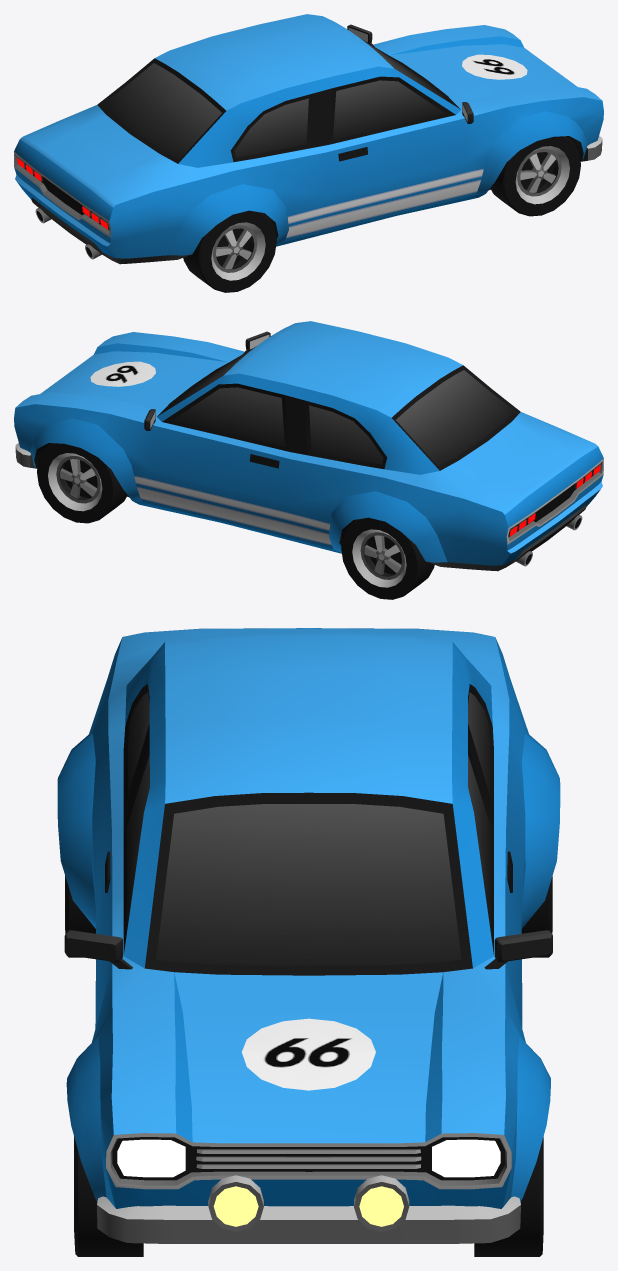
Rendered from RaceCar_107.glb.
The picture shows the model from 3 angles, top to bottom: view 1: azimuth 30°, elevation 25°; view 2: azimuth 150°, elevation 25°; view 3: azimuth 270°, elevation 25°; orthographic projection. The views are drawn at different scales.
Visible parts, largest first — view 1: RaceCar_107, wheel_3_RaceCar_107_Wheel_2R, wheel_1_RaceCar_107_Wheel_1R; view 2: RaceCar_107, wheel_2_RaceCar_107_Wheel_2L, wheel_0_RaceCar_107_Wheel_1L; view 3: RaceCar_107, wheel_0_RaceCar_107_Wheel_1L, wheel_1_RaceCar_107_Wheel_1R.
Part boxes in pixels (x1,y1,x2,y2): RaceCar_107: (14,14,603,264); wheel_3_RaceCar_107_Wheel_2R: (183,210,276,292); wheel_1_RaceCar_107_Wheel_1R: (490,136,580,216); RaceCar_107: (14,321,603,571); wheel_2_RaceCar_107_Wheel_2L: (341,517,434,599); wheel_0_RaceCar_107_Wheel_1L: (37,443,127,523); RaceCar_107: (57,628,560,1243); wheel_0_RaceCar_107_Wheel_1L: (474,1137,543,1256); wheel_1_RaceCar_107_Wheel_1R: (74,1136,143,1256).
Size of the model in its own units: 4.1 by 1.36 by 1.77.
3 materials, 3 textured.
